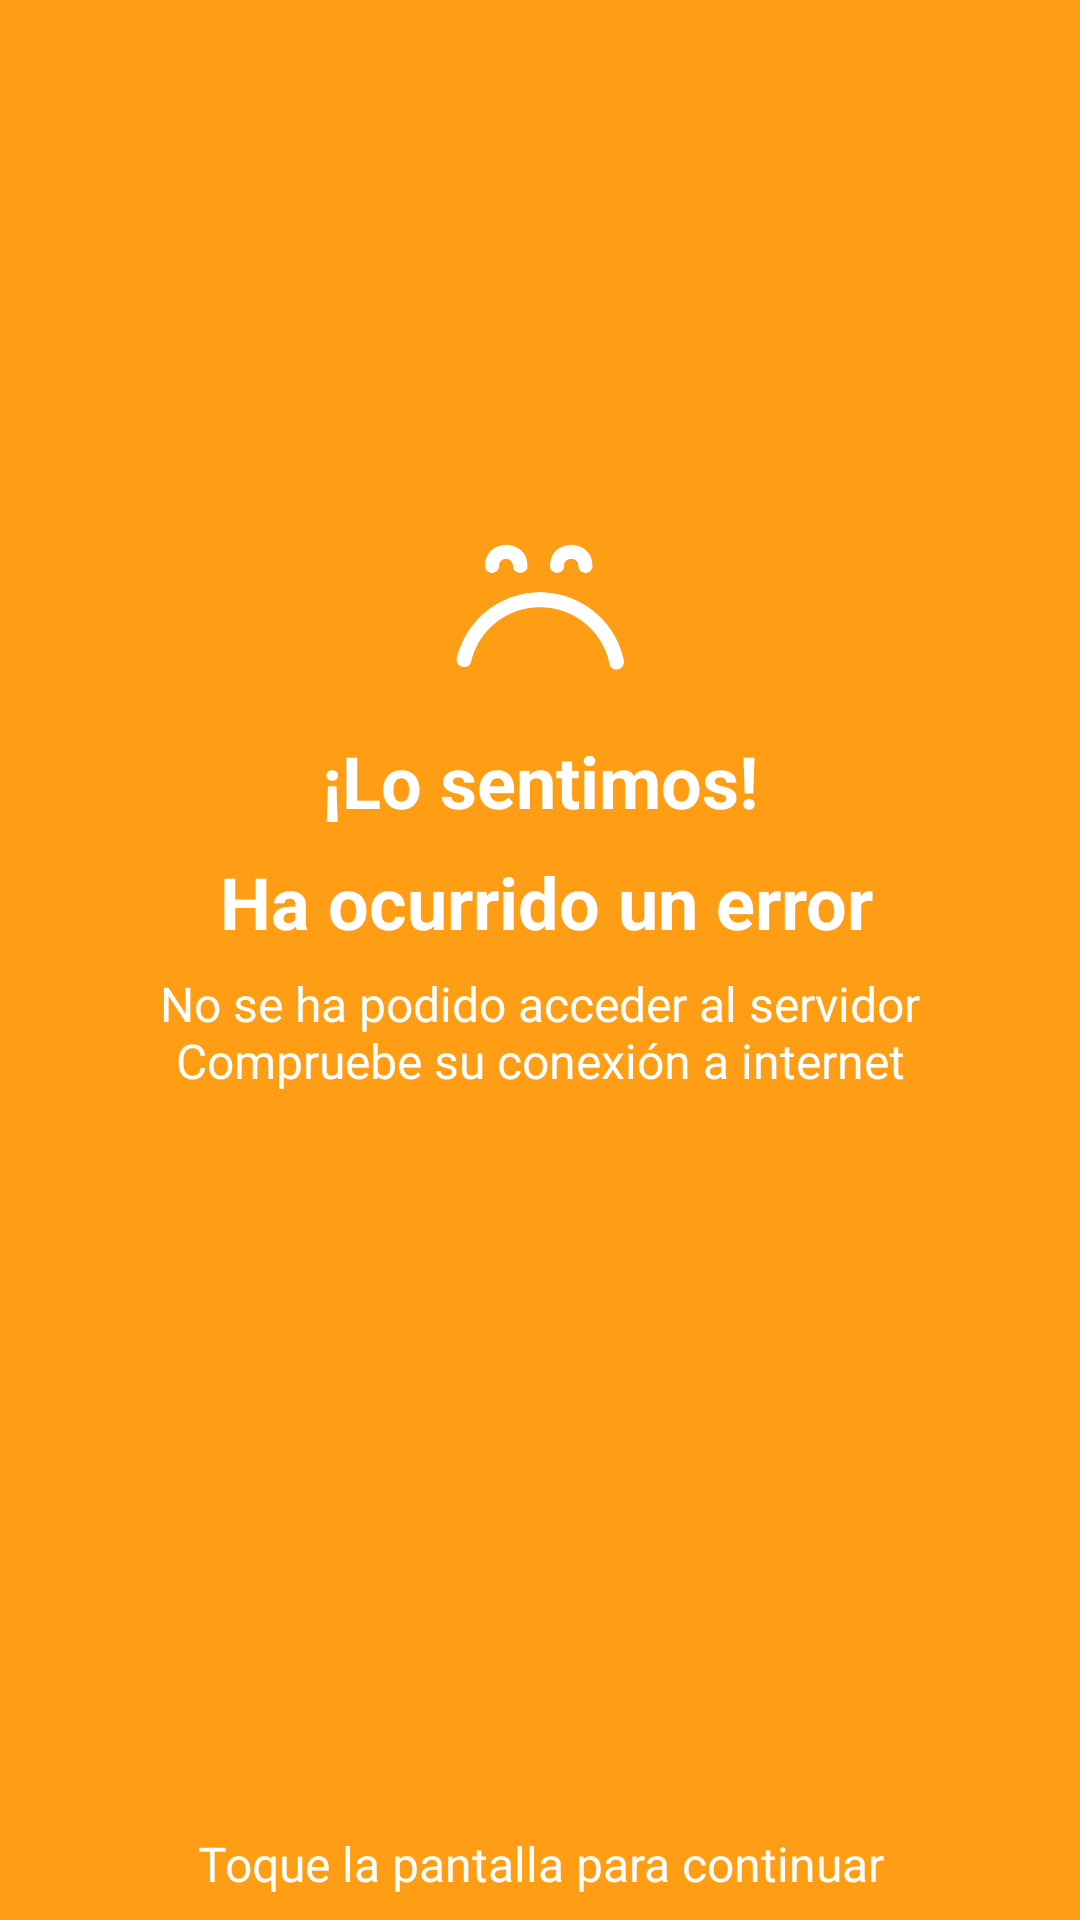

Named icons in this screenshot (1080×1920) and their centers, point (x, y):
sad: point (540, 607)
